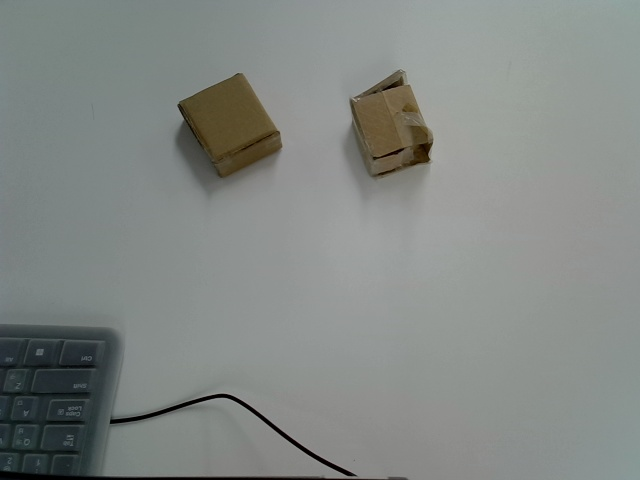defect: (350, 70, 436, 180)
normal: (177, 72, 284, 178)
